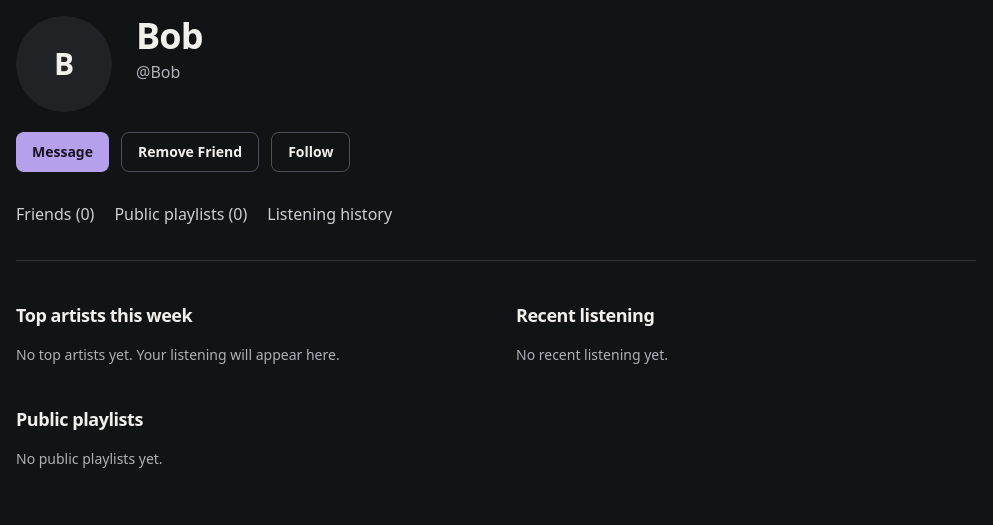
it: profile friend controls › refreshes a stale accepted action alice/Remove Friend while retaining its failure feedback
Click the button "Remove Friend": (190, 152) left=121, top=132, right=259, bottom=172
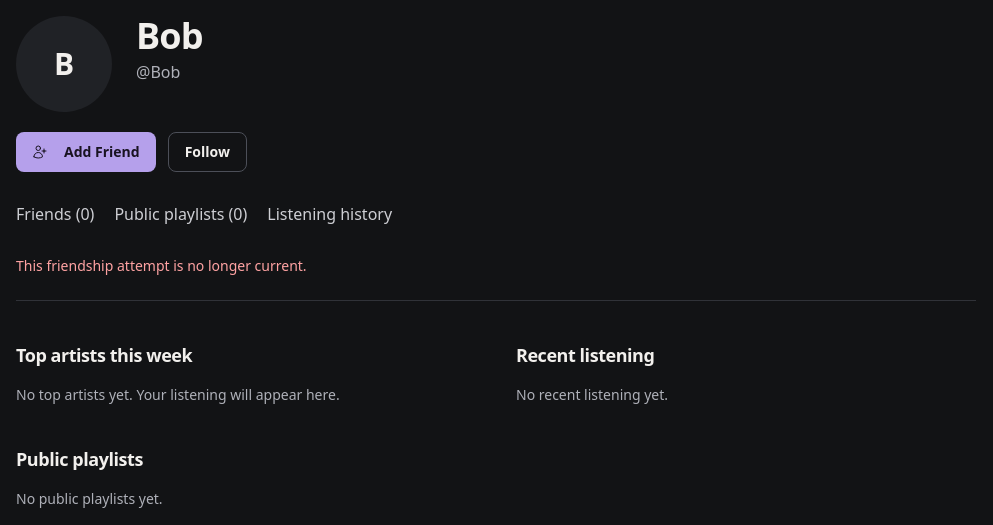
Expected: the button "Add Friend" is shown, left=16, top=132, right=156, bottom=172
Expected: the text "This friendship attempt is no longer current." is shown, left=16, top=256, right=307, bottom=275
